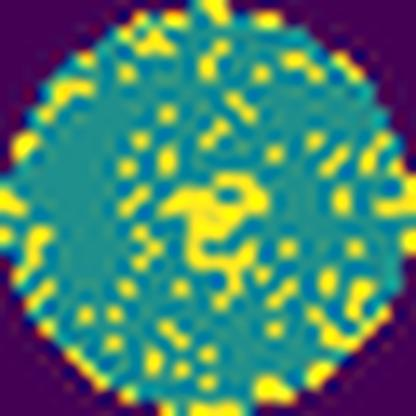Center: (154, 170, 278, 307)
